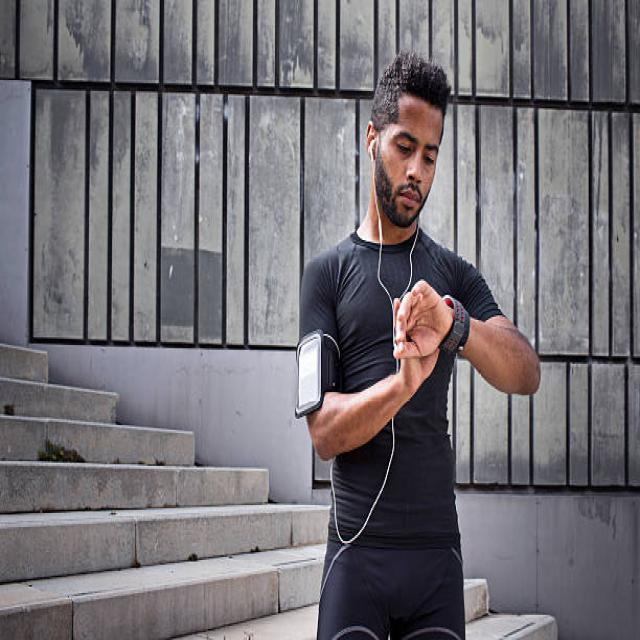Earphone: (368, 134, 423, 519)
